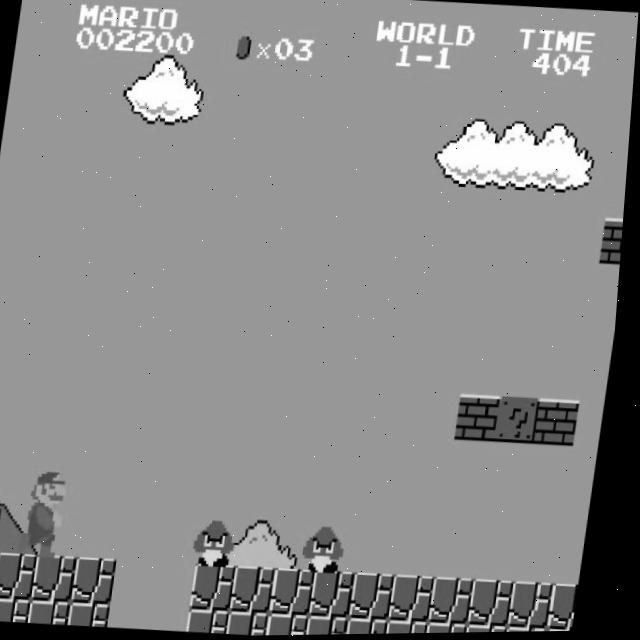0- big_mario: (22, 461, 77, 559)
1- brick_block: (460, 394, 507, 444), (539, 399, 586, 448), (602, 218, 627, 266)
13- mystery_block: (500, 396, 547, 446)
17- undestructible_block: (79, 556, 126, 606), (238, 565, 285, 615), (357, 572, 404, 622), (397, 574, 444, 624), (39, 554, 86, 603), (198, 563, 245, 612), (278, 568, 325, 617), (317, 570, 364, 619), (437, 577, 484, 626), (516, 582, 563, 631), (0, 551, 46, 601), (477, 579, 523, 629), (555, 583, 587, 632), (36, 599, 81, 626), (76, 601, 120, 628), (195, 608, 239, 635), (235, 610, 279, 637), (0, 597, 41, 623), (275, 613, 319, 636), (315, 615, 359, 636), (354, 618, 398, 635), (394, 619, 438, 635), (434, 622, 477, 635), (474, 625, 517, 634), (514, 627, 557, 634), (0, 549, 6, 598), (0, 595, 0, 621)
8- goomba: (306, 523, 355, 576), (196, 517, 245, 569)
